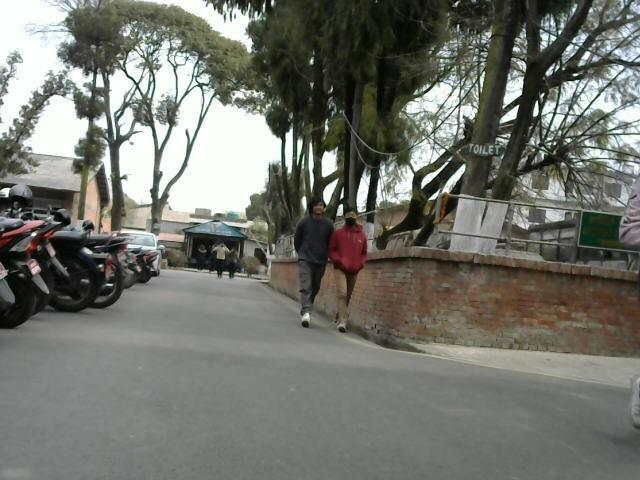Car: (0, 284, 539, 480), (124, 229, 179, 274)
Motorcycle: (0, 180, 169, 343)
Person: (337, 204, 375, 341), (298, 198, 335, 334)
Tree: (61, 3, 338, 186)
